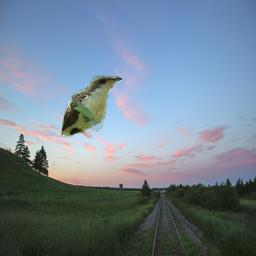Cuckoo: (60, 75, 122, 138)
